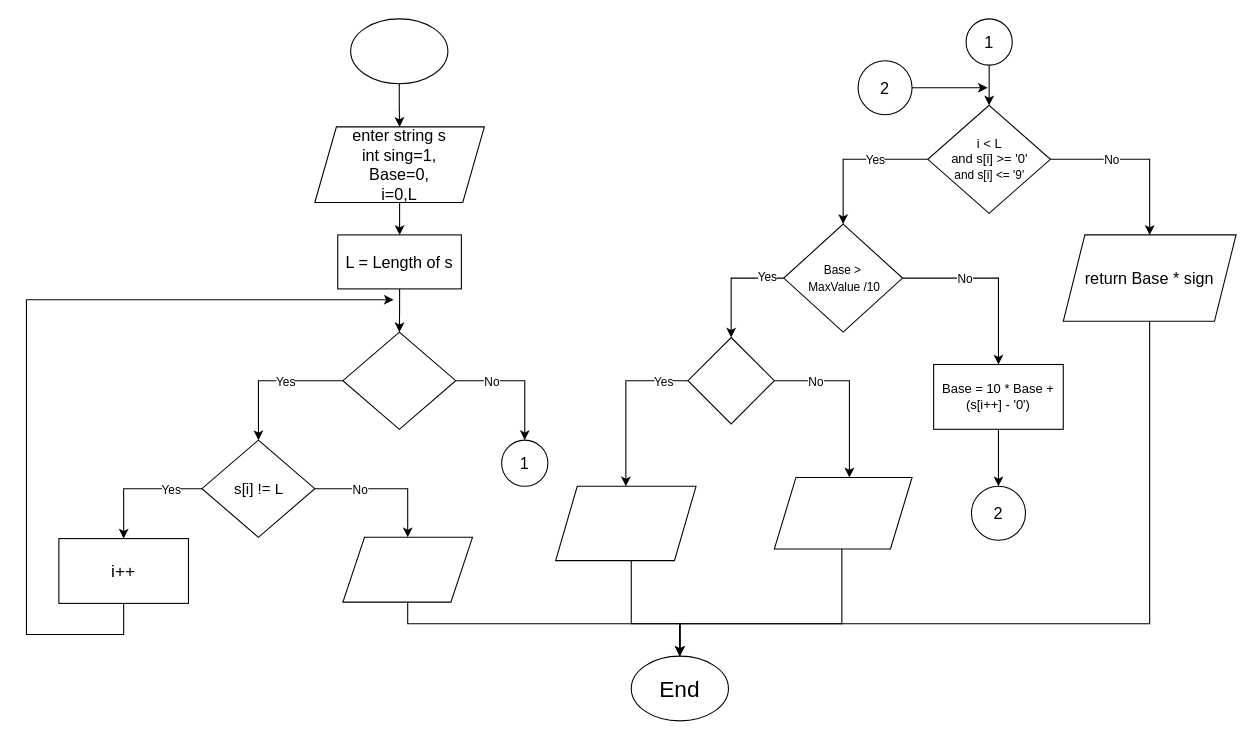
This 1255x740 diagram has some shape labels left out. The centre of each missing label's shape, as x and y in pixels:
return 0: (x=407, y=569)
return MaxValue: (x=625, y=523)
return MinValue: (x=842, y=512)
s[i] == NULL: (x=399, y=380)
sign == 1: (x=730, y=380)
Start: (x=399, y=51)
